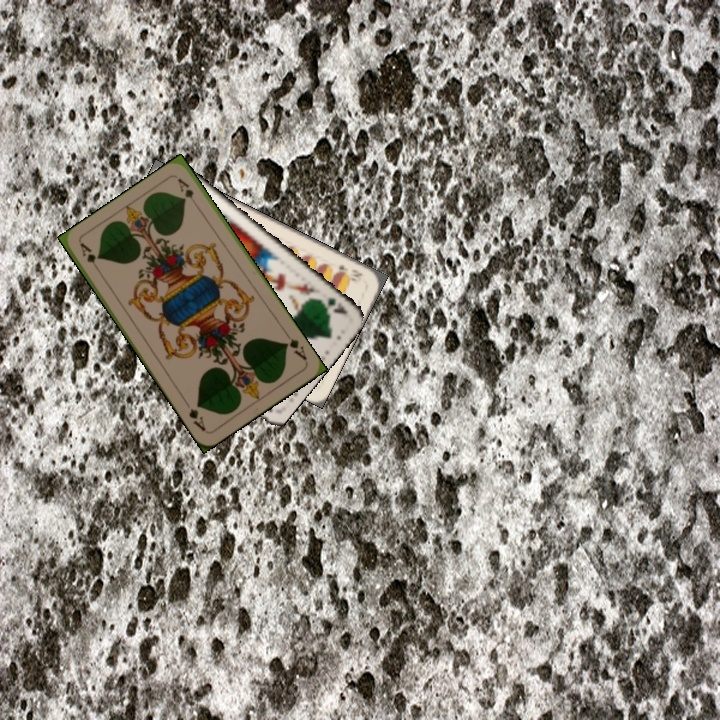E10: (333, 261, 365, 284)
GA: (76, 239, 104, 276), (280, 329, 310, 363)
GK: (314, 293, 351, 318)
